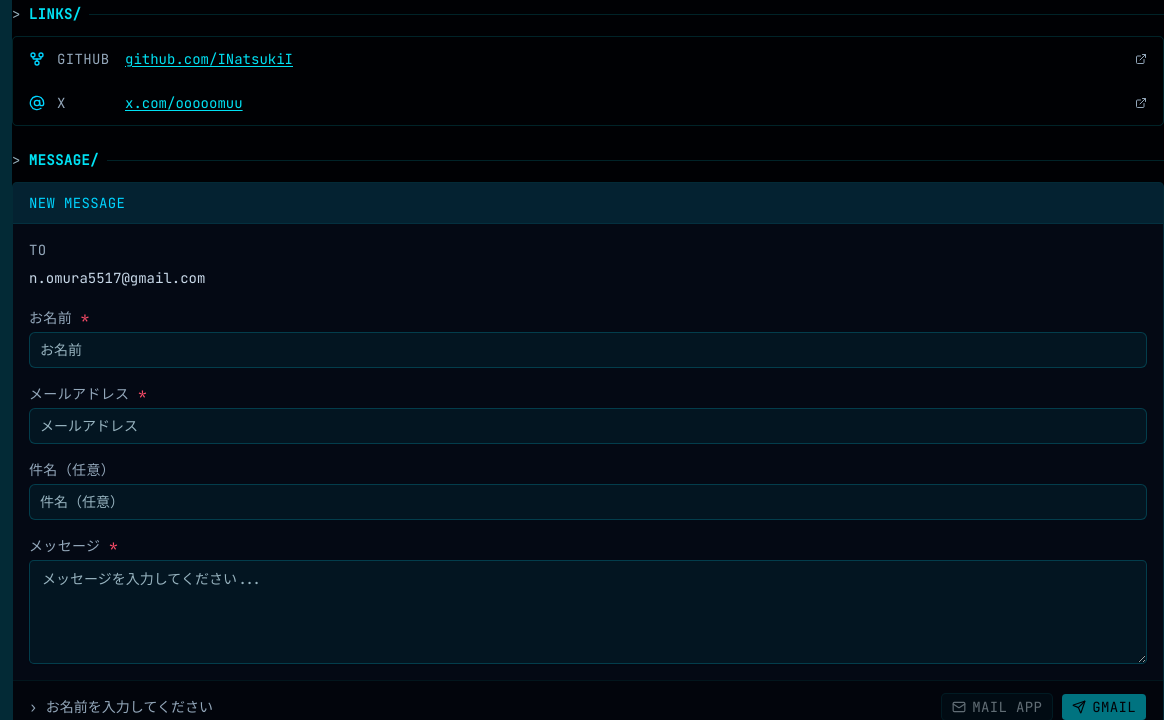
Test: WinContact › 送信後のフィードバック › MAIL APP 押下後に「メールアプリを開きました」と表示される
Type "Taro" into the field with placeholder "お名前" at (588, 350), box [29,332,1147,368]
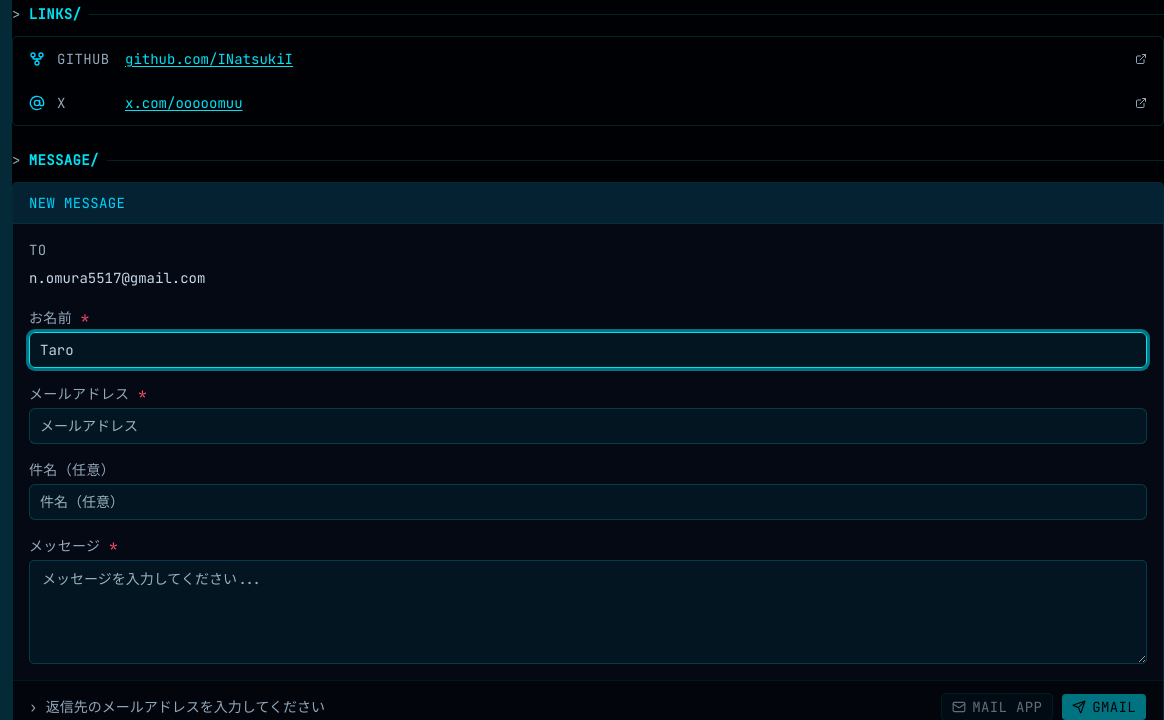
Type "taro@example.com" into the field with placeholder "メールアドレス" at (588, 426), box [29,408,1147,444]
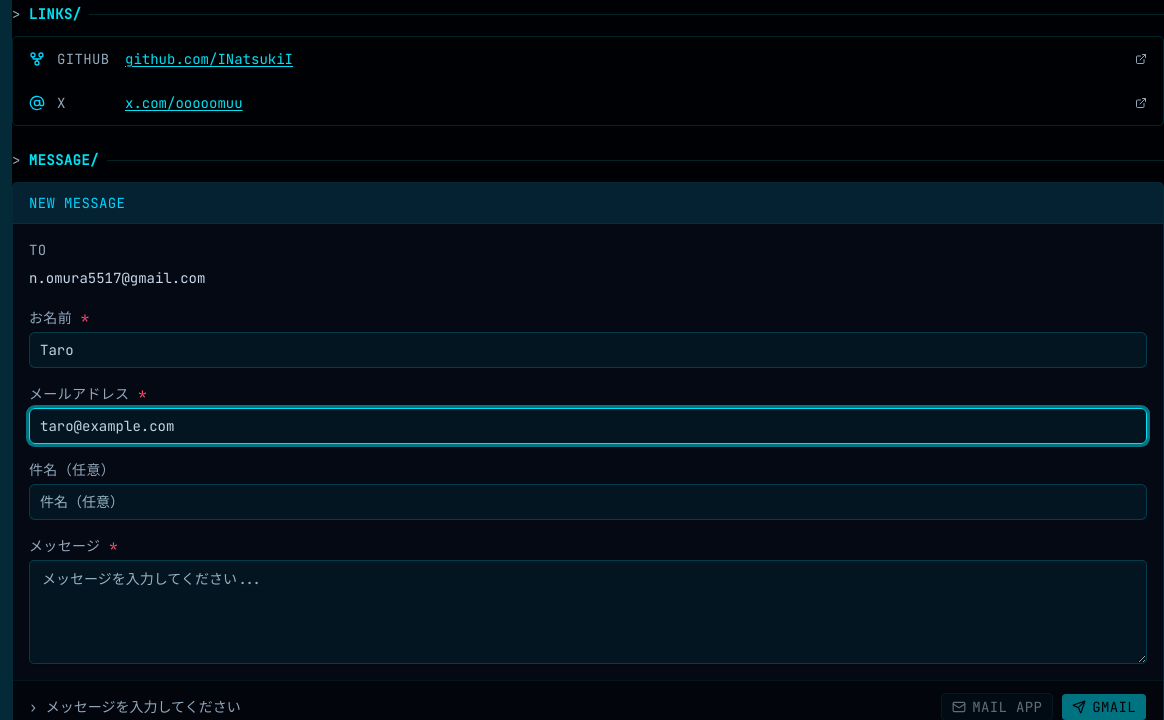
Press Tab
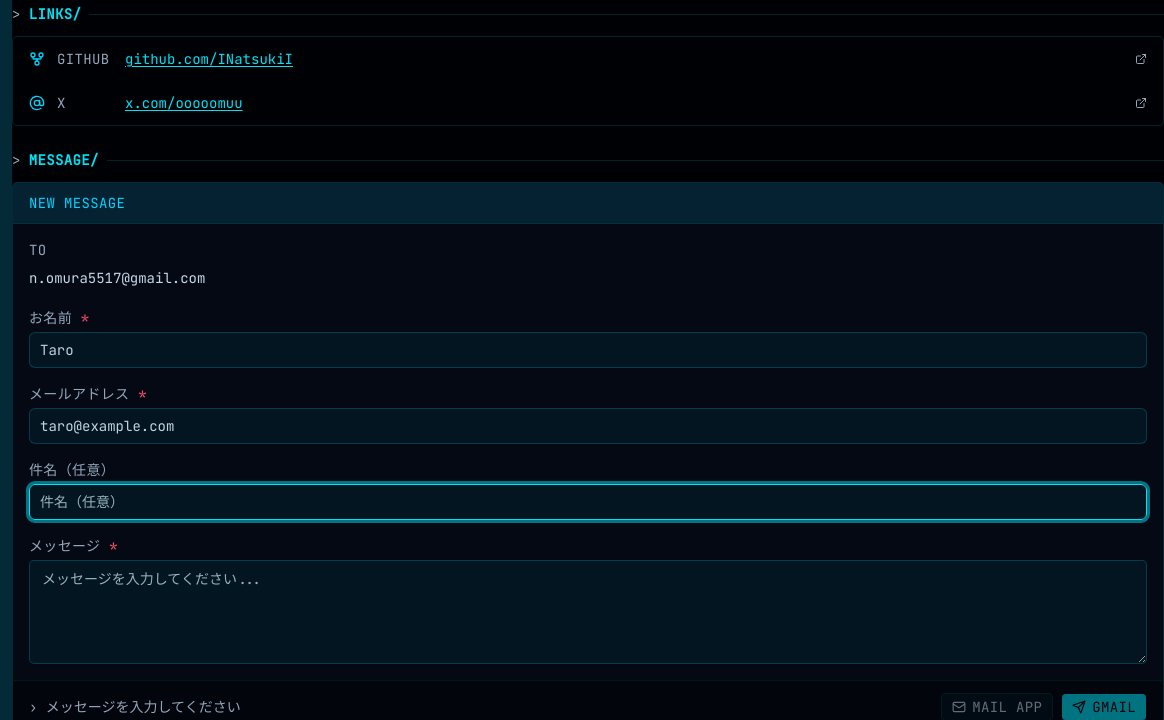
Type "Hello!" into the text box with placeholder "メッセージを入力してください..." at (588, 612), box [29,560,1147,664]
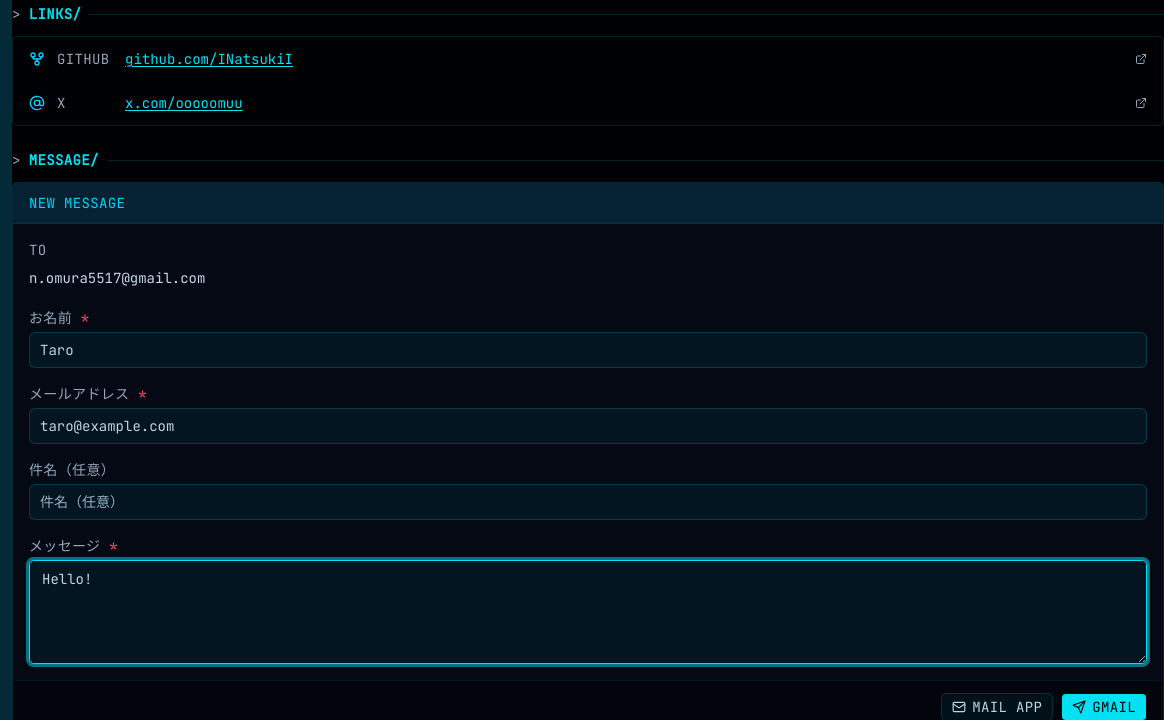
Click the button "MAIL APP" at (997, 707), box [941,693,1053,719]
(page scrolled)
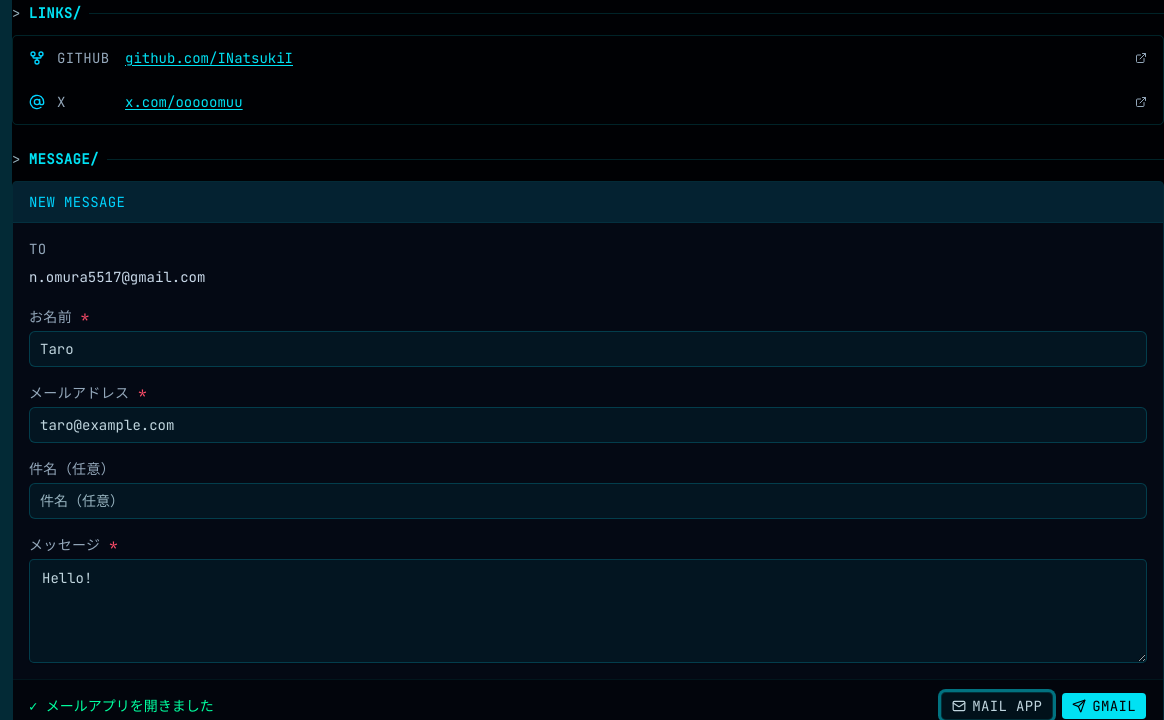
expect the message shows "メールアプリを開きました": met, box [29,697,214,715]
